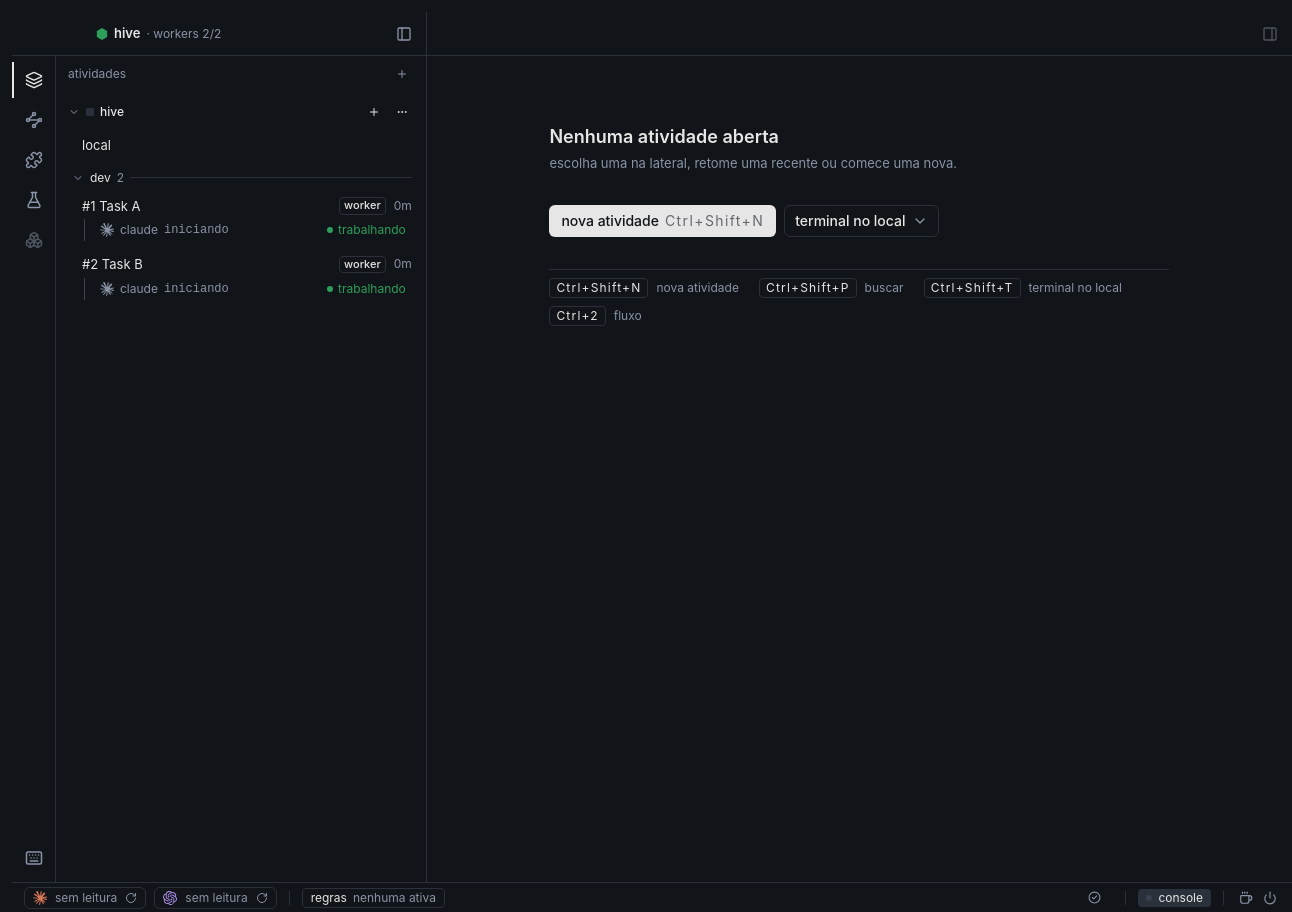
Test: clicking another task switches the panel to it directly, never closing it first (#184)
The width and height of the screenshot is (1292, 912).
Click the button named "fluxo" at (34, 120), box x1=12 y1=102 x2=56 y2=138
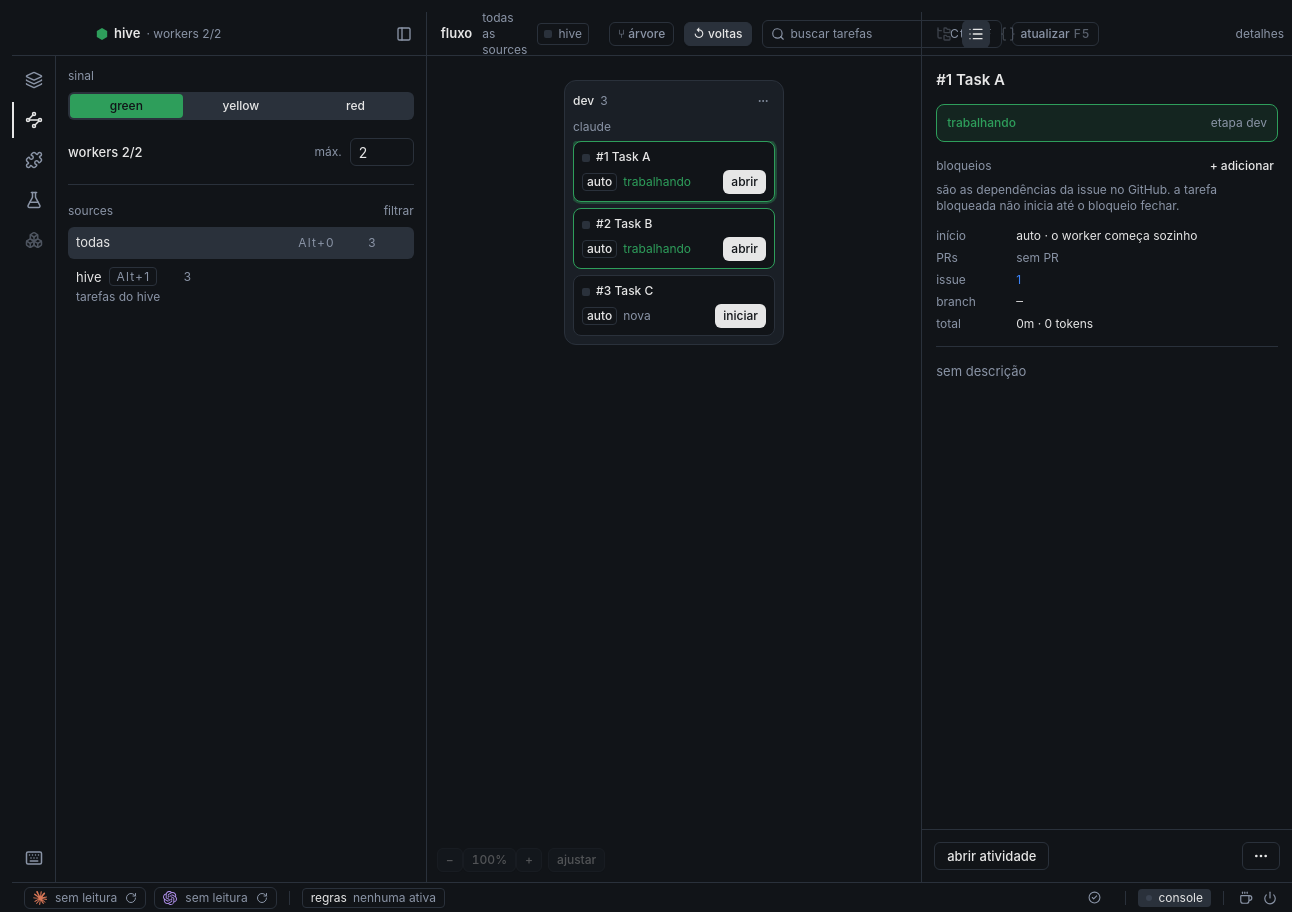
Expected: the heading "#1 Task A" is shown, x1=936 y1=70 x2=1005 y2=89
Click the text "#2 Task B" at (617, 224), box x1=582 y1=216 x2=652 y2=231
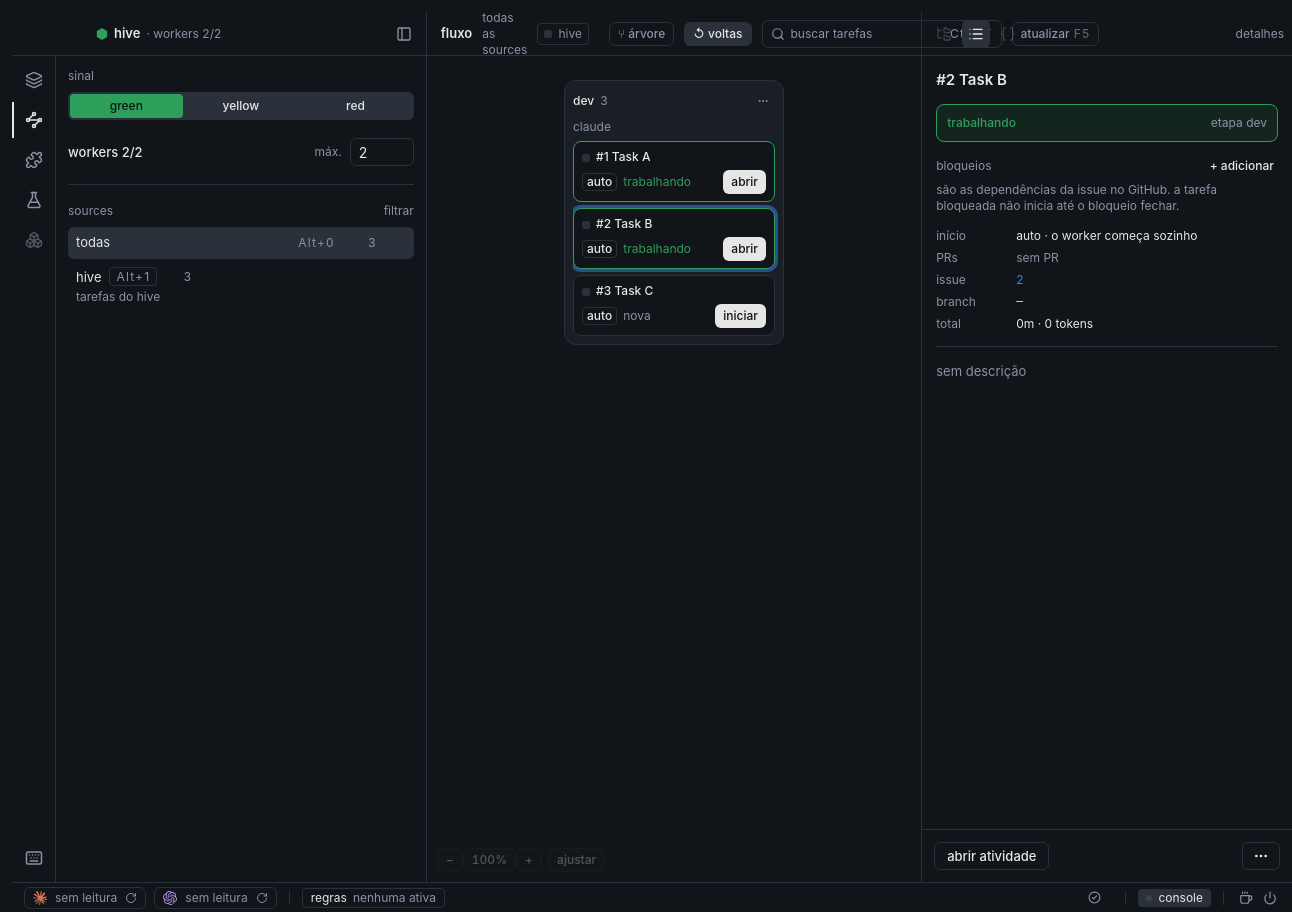
Expected: the heading "#2 Task B" is shown, x1=936 y1=70 x2=1007 y2=89
